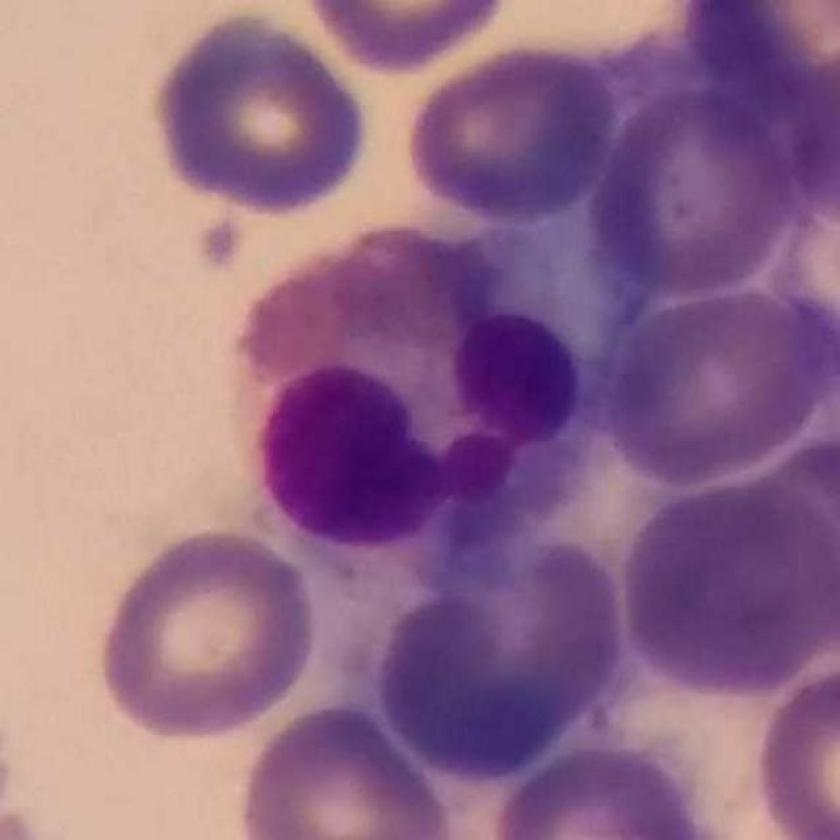eosinophil: (228, 219, 605, 584)
